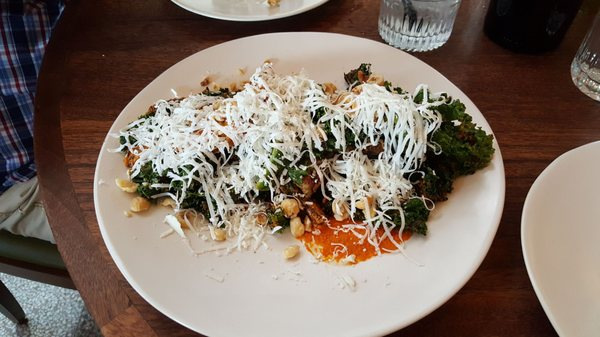pizza: (377, 1, 460, 53)
sandwich: (0, 272, 30, 327)
